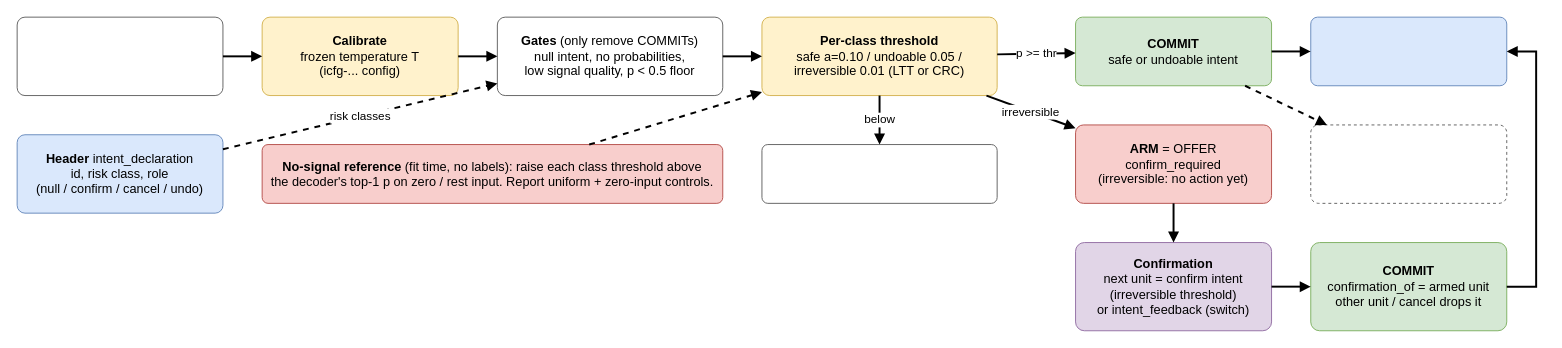
This 1562x348 diagram has some shape labels left out. The centre of each missing label's shape, as x and y in pixels:
"Bridge (HID, device) acts on final COMMIT only" belongs at [1408,51].
"Decoder intent event: candidates + scores (or v0.1 decision, command frames)" belongs at [119,56].
"OFFER top-k set or ABSTAIN (user picks; never actuated)" belongs at [879,173].
"undo COMMIT undo_of = last undoable unit (never an irreversible one)" belongs at [1408,163].
